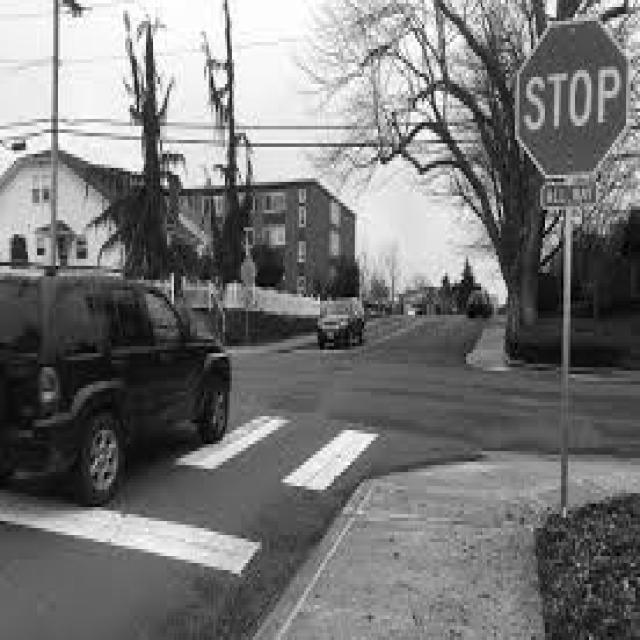stop sign: (521, 23, 630, 212)
